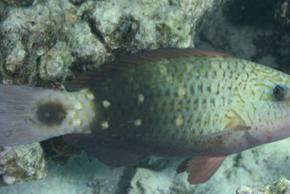Scaridae -Parrotfishes-: (0, 43, 290, 185)
